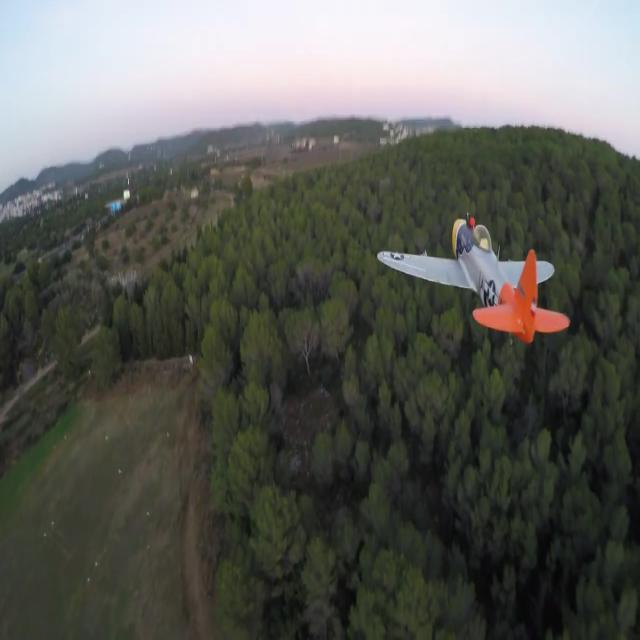iha: (378, 212, 570, 344)
